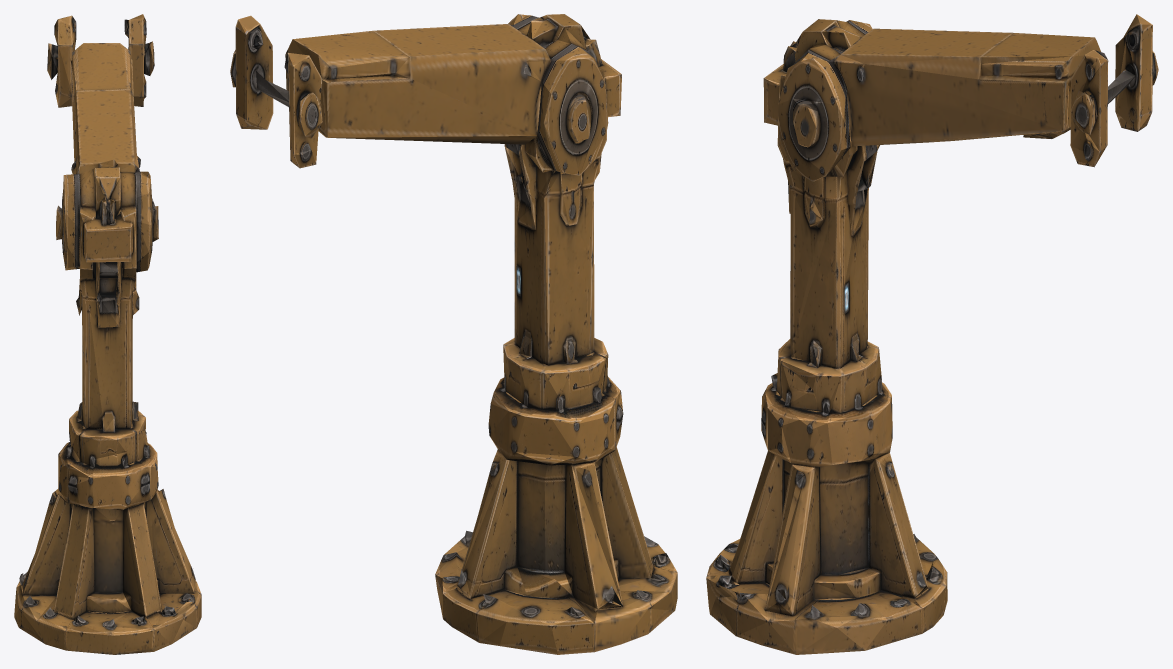
The model's file is lebedka-opora.glb.
The picture shows the model from 3 angles, left to right: view 1: azimuth 30°, elevation 25°; view 2: azimuth 150°, elevation 25°; view 3: azimuth 270°, elevation 25°; orthographic projection. The views are drawn at different scales.
Parts seen in each view (by area): view 1: lebedka-opora; view 2: lebedka-opora; view 3: lebedka-opora.
Part boxes in pixels (x1,y1,x2,y2): lebedka-opora: (14,14,201,654); lebedka-opora: (230,14,677,654); lebedka-opora: (706,14,1158,654).
Bounding box in the file's own units: 1.26 × 2.61 × 1.68.
1 material, 1 textured.
